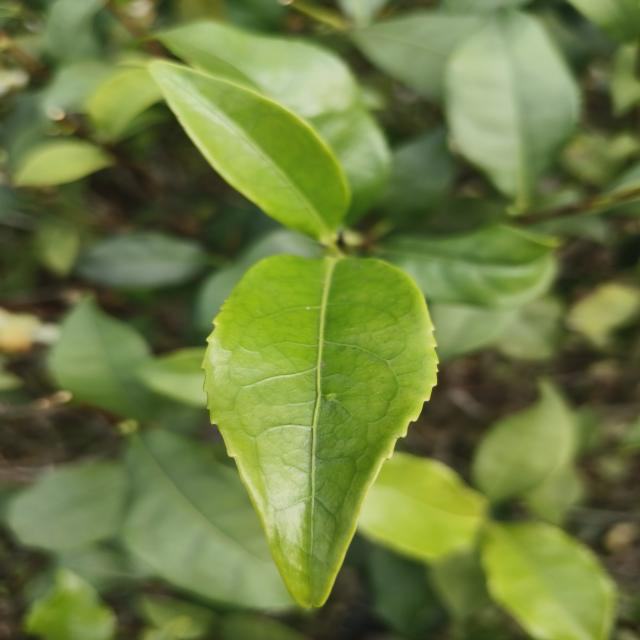Leaf: (204, 255, 437, 606), (160, 21, 391, 222), (149, 61, 350, 244), (123, 430, 292, 608), (444, 9, 580, 213), (481, 522, 616, 640), (379, 224, 556, 308), (359, 452, 487, 562), (49, 296, 156, 422), (472, 382, 575, 502), (351, 10, 482, 99), (8, 461, 129, 552), (78, 231, 208, 288), (25, 568, 116, 640), (383, 126, 456, 213), (86, 65, 163, 140), (430, 549, 490, 621), (15, 142, 111, 186), (139, 347, 207, 407)
